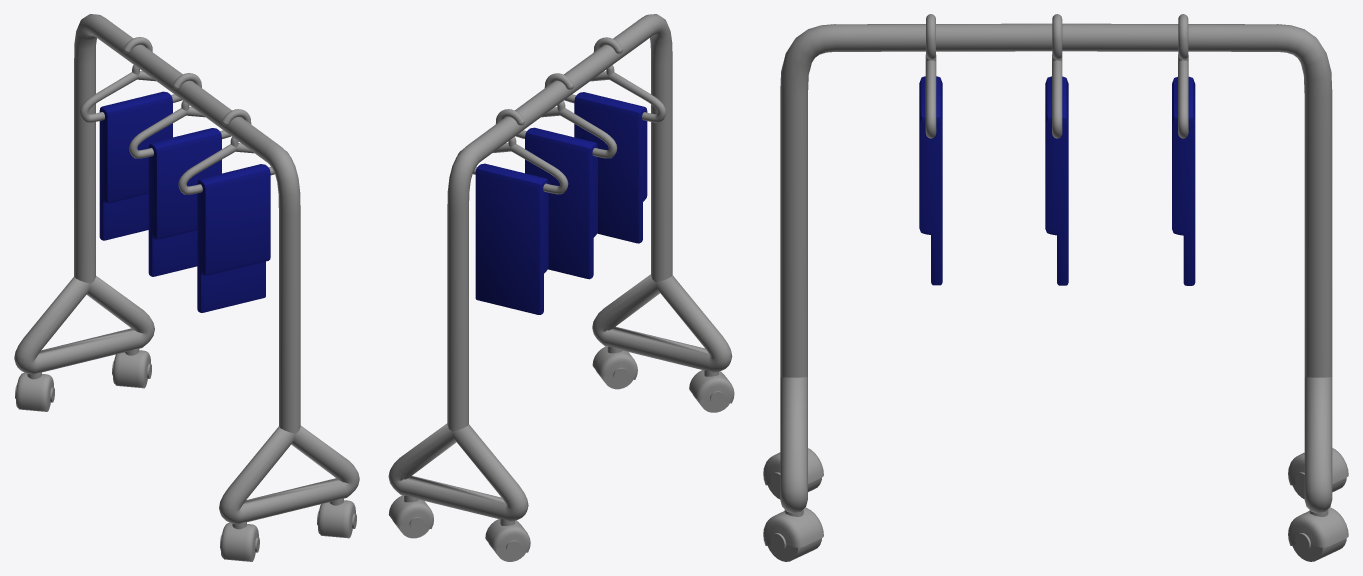
The model's file is 3D_Prop_ClothesRack_Pants.fbx.
3 views of the same model, side by side, from view 1: azimuth 30°, elevation 25°; view 2: azimuth 150°, elevation 25°; view 3: azimuth 270°, elevation 25° (orthographic). The views are drawn at different scales.
Parts seen in each view (by area): view 1: Rack; view 2: Rack; view 3: Rack.
Boxes of the visible parts, x1=… form: Rack: x1=14, y1=14, x2=359, y2=561; Rack: x1=388, y1=14, x2=734, y2=561; Rack: x1=763, y1=14, x2=1348, y2=561.
Size of the model in its own units: 18.33 by 50.17 by 52.22.
